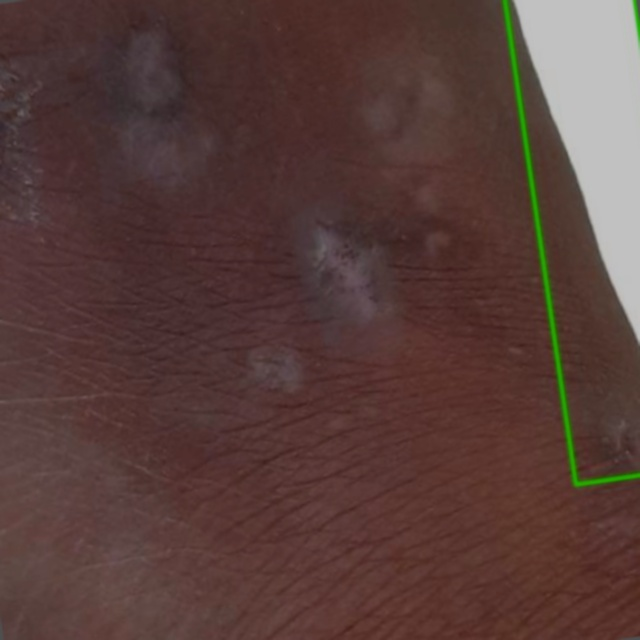Eczema: (504, 0, 639, 484)
